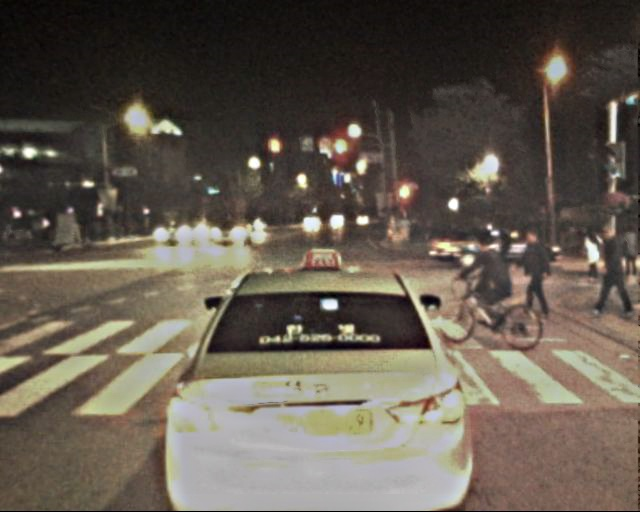person: (472, 236, 514, 339), (592, 221, 633, 320), (520, 228, 556, 315), (579, 228, 604, 288), (619, 225, 640, 281)
